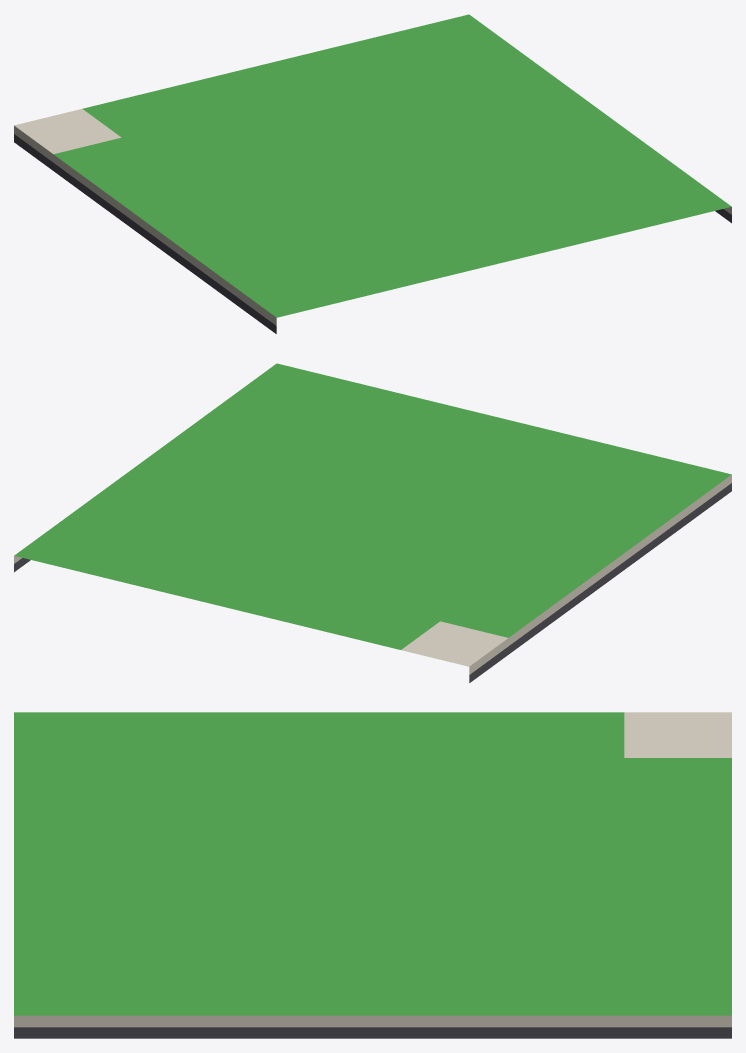
Rendered from grass_sand1.fbx.
3 renders of one model, top to bottom at view 1: azimuth 30°, elevation 25°; view 2: azimuth 150°, elevation 25°; view 3: azimuth 270°, elevation 25°, orthographic. The views are drawn at different scales.
Visible parts, largest first — view 1: grass_sandwich1; view 2: grass_sandwich1; view 3: grass_sandwich1.
Boxes of the visible parts, x1=… form: grass_sandwich1: x1=14, y1=14, x2=731, y2=333; grass_sandwich1: x1=14, y1=363, x2=731, y2=682; grass_sandwich1: x1=14, y1=712, x2=731, y2=1038.
Bounding box in the file's own units: 1000 × 35.23 × 1000.
